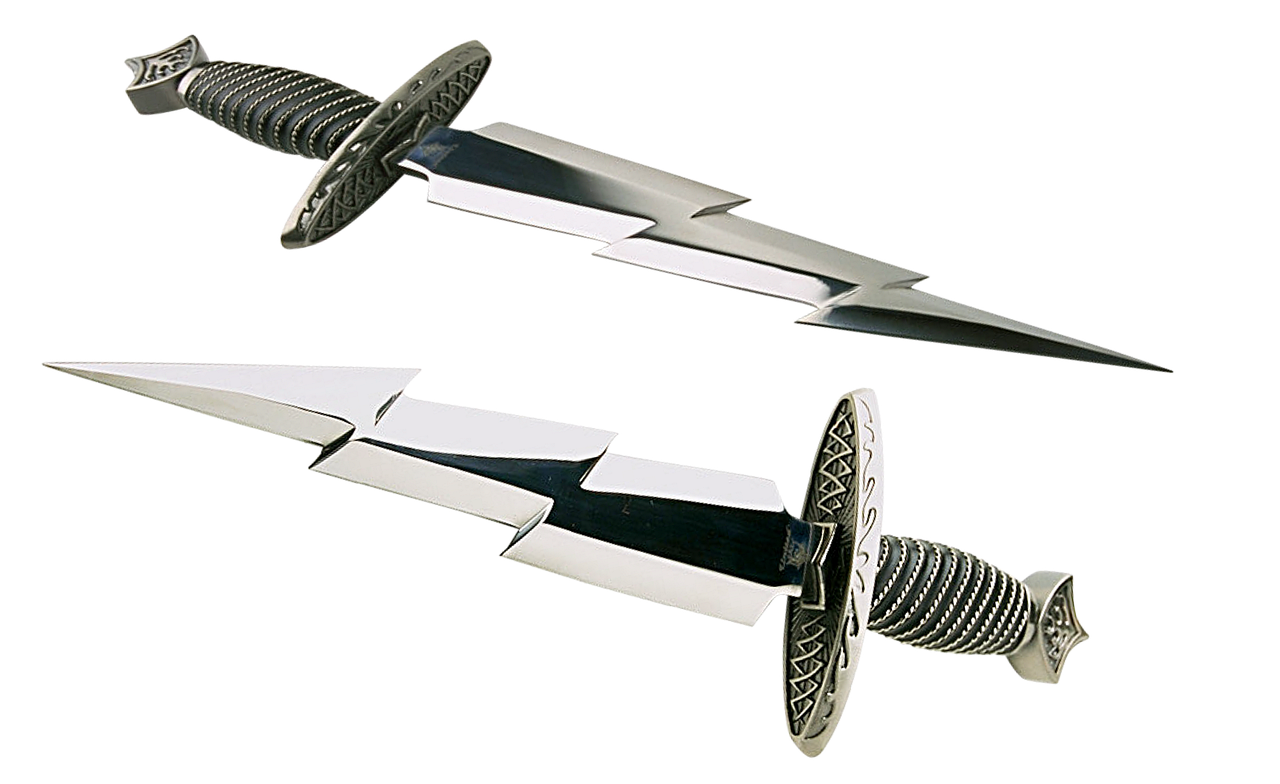knife: (37, 342, 1088, 768), (92, 18, 1201, 383)
